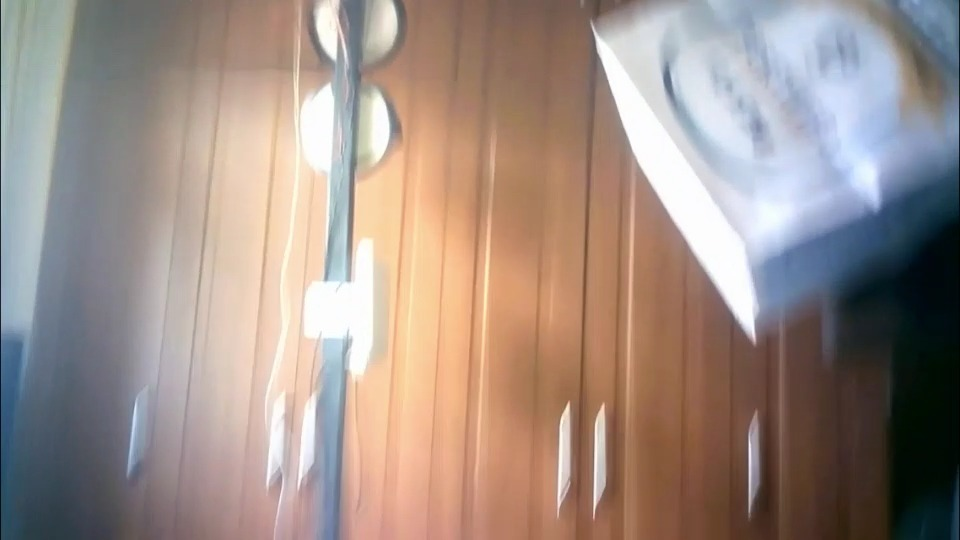wheat_flour_blue_label: (589, 4, 952, 337)
